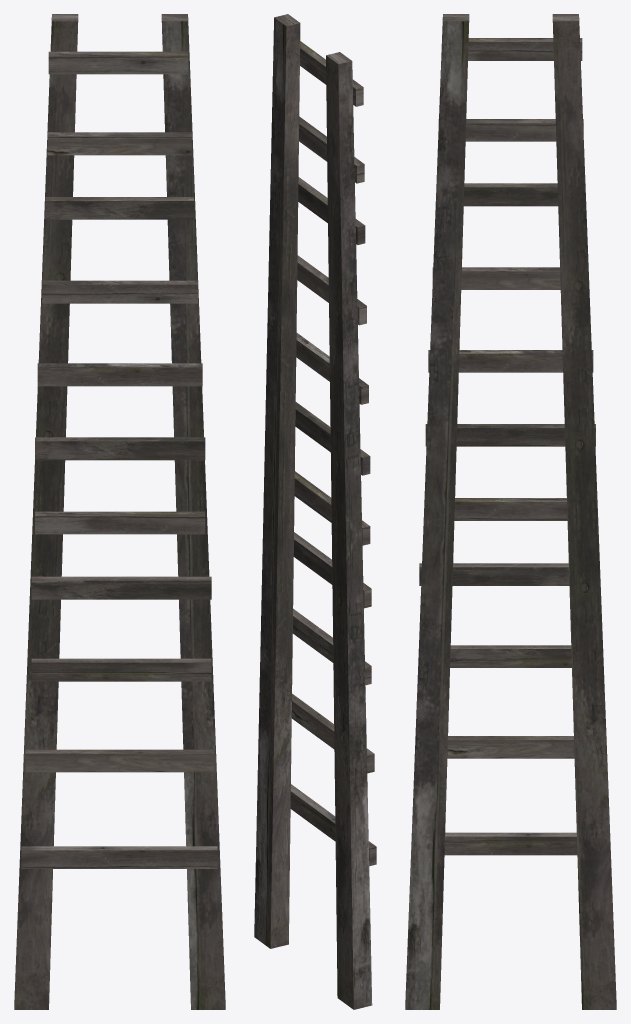
File: ladder.obj
3 views of the same model, side by side, from view 1: azimuth 90°, elevation 25°; view 2: azimuth 210°, elevation 25°; view 3: azimuth 270°, elevation 25° (orthographic). The views are drawn at different scales.
Parts seen in each view (by area): view 1: ladder; view 2: ladder; view 3: ladder.
Part boxes in pixels (box(x1,y1,x2,y2)): ladder: box(14, 14, 225, 1009); ladder: box(254, 14, 376, 1009); ladder: box(405, 14, 616, 1009).
Bounding box in the file's own units: 3.22 × 110 × 21.25.
